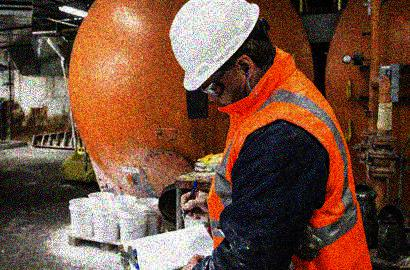helmet: (169, 1, 265, 102)
